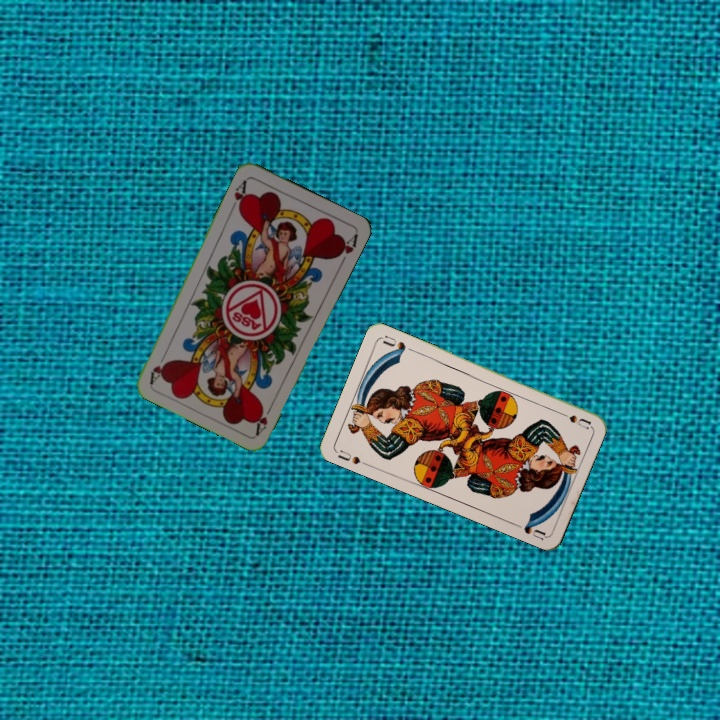HA: (250, 399, 276, 437), (227, 176, 250, 215)
SU: (553, 407, 593, 432), (333, 446, 372, 468)
